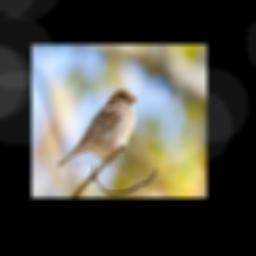Sparrow: (58, 89, 138, 170)
